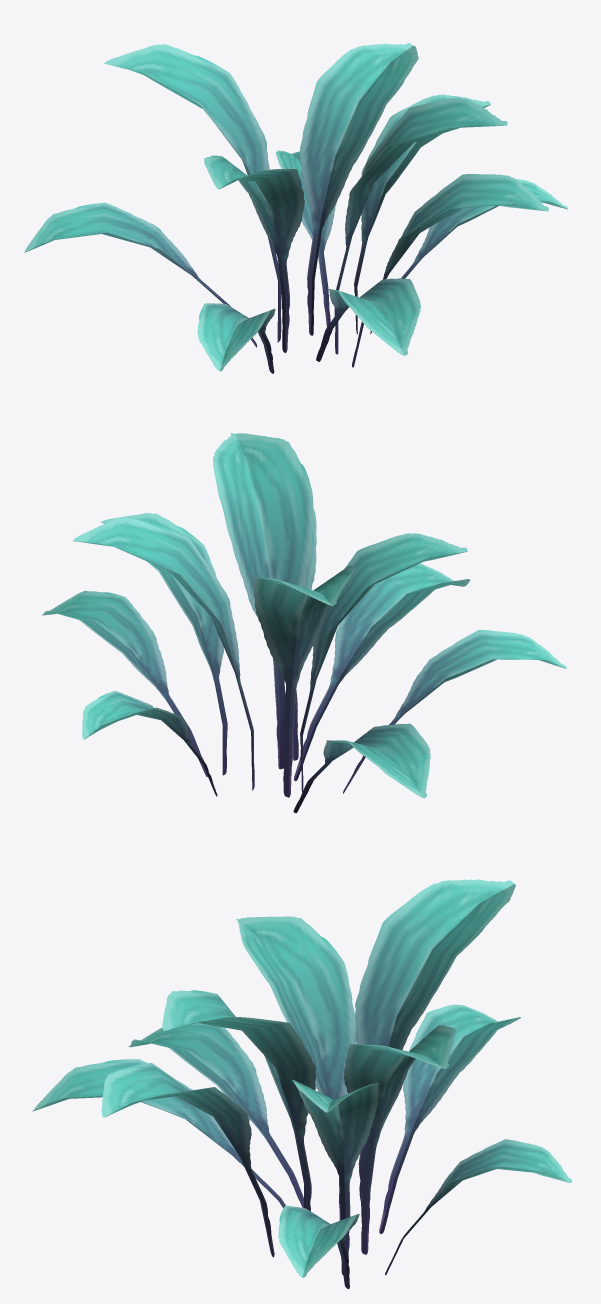
Rendered from SM_ENV_plant_ancient_08.fbx.
The picture shows the model from 3 angles, top to bottom: view 1: azimuth 30°, elevation 25°; view 2: azimuth 150°, elevation 25°; view 3: azimuth 270°, elevation 25°; orthographic projection. The views are drawn at different scales.
Visible parts, largest first — view 1: SM_ENV_plant_ancient_08_LOD0; view 2: SM_ENV_plant_ancient_08_LOD0; view 3: SM_ENV_plant_ancient_08_LOD0.
Part boxes in pixels (x1,y1,x2,y2): SM_ENV_plant_ancient_08_LOD0: (24,43,567,373); SM_ENV_plant_ancient_08_LOD0: (41,433,566,813); SM_ENV_plant_ancient_08_LOD0: (32,879,572,1289).
Size of the model in its own units: 59.1 by 33.25 by 53.06.
